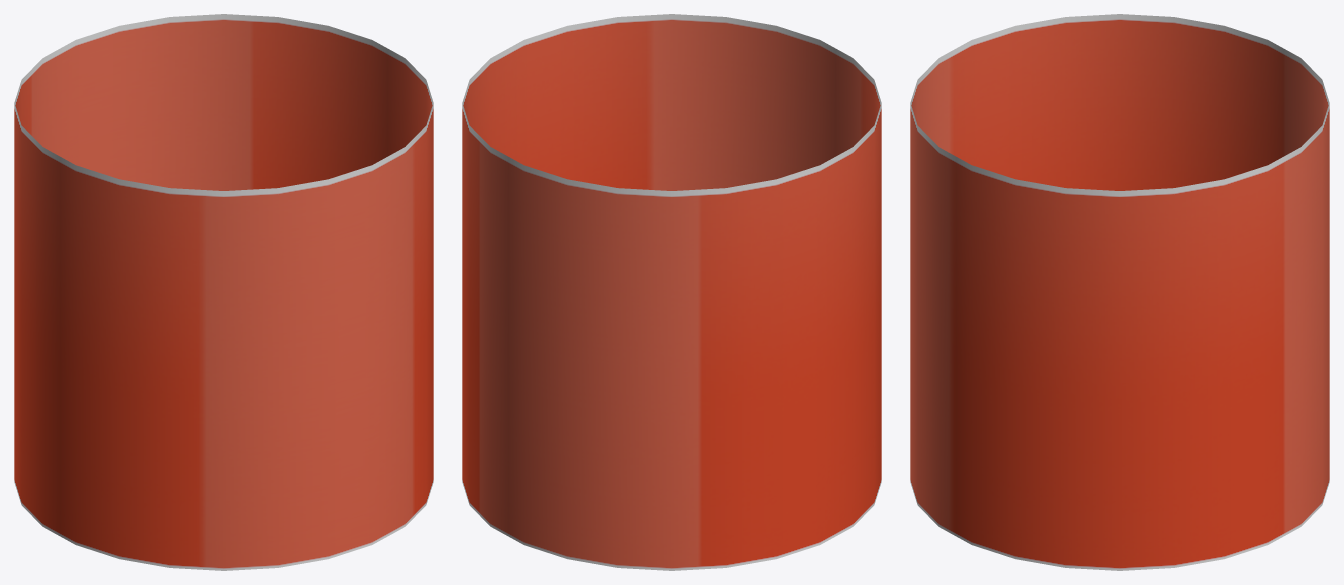
Rendered from spawnEnemy_column_vertical.fbx.
3 views of the same model, side by side, from view 1: azimuth 30°, elevation 25°; view 2: azimuth 150°, elevation 25°; view 3: azimuth 270°, elevation 25° (orthographic).
Parts seen in each view (by area): view 1: spawnEnemy_column_vertical; view 2: spawnEnemy_column_vertical; view 3: spawnEnemy_column_vertical.
Boxes of the visible parts, box(x1,y1,x2,y2) form: spawnEnemy_column_vertical: box(14, 14, 433, 570); spawnEnemy_column_vertical: box(462, 14, 881, 570); spawnEnemy_column_vertical: box(910, 14, 1329, 570).
Size of the model in its own units: 2 by 2 by 2.
